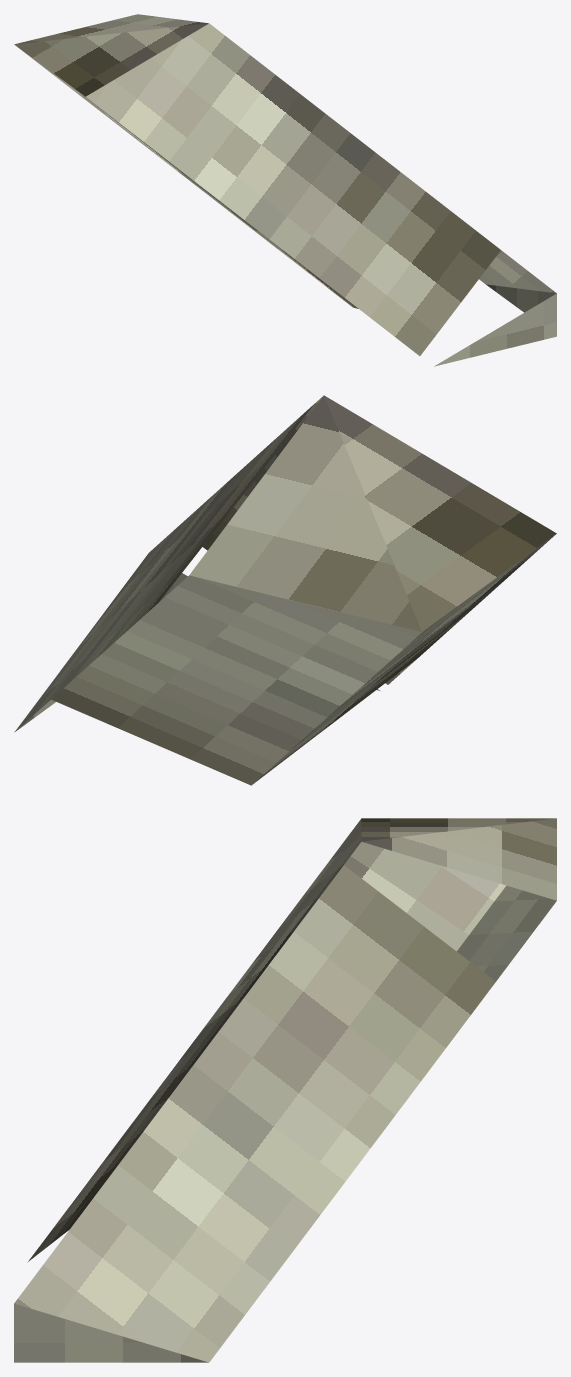
File: birch_branch_45_diagonal.obj
3 renders of one model, top to bottom at view 1: azimuth 30°, elevation 25°; view 2: azimuth 150°, elevation 25°; view 3: azimuth 270°, elevation 25°, orthographic. The views are drawn at different scales.
Visible parts, largest first — view 1: cube; view 2: cube; view 3: cube.
Boxes of the visible parts, left/top/right/bottom form: cube: left=14, top=14, right=556, bottom=366; cube: left=14, top=395, right=556, bottom=785; cube: left=14, top=818, right=556, bottom=1362.
Bounding box in the file's own units: 1.56 × 1.19 × 1.56.
